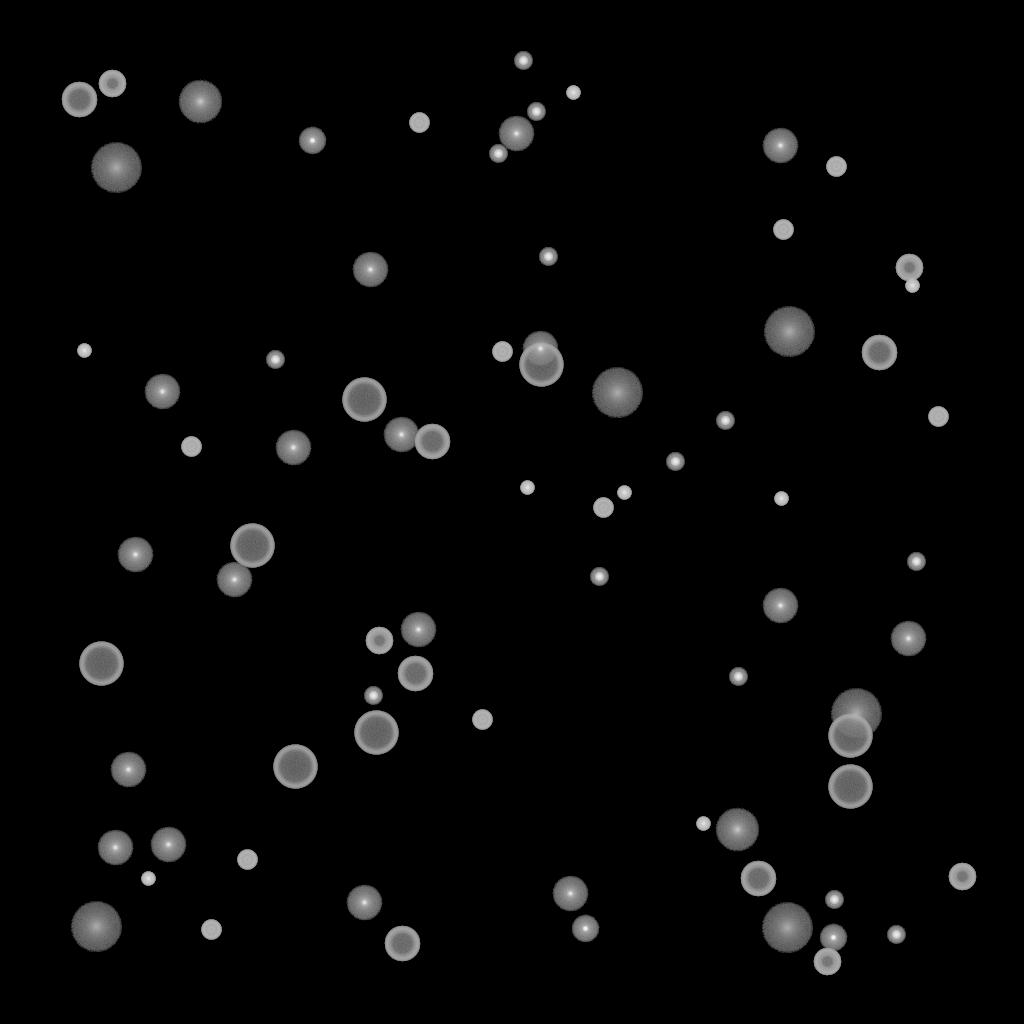depth:-10: (571, 915, 599, 943), (819, 924, 847, 952), (298, 127, 326, 155)
depth:-20: (266, 351, 284, 369), (539, 248, 557, 266), (716, 412, 734, 430), (514, 52, 532, 70), (489, 145, 507, 163), (527, 103, 545, 121), (729, 668, 747, 686), (887, 926, 905, 944), (825, 891, 843, 909), (364, 687, 382, 705), (907, 553, 925, 571), (590, 568, 608, 586), (666, 453, 684, 471)
depth:-30: (141, 872, 155, 886), (77, 344, 91, 358), (566, 86, 580, 100), (617, 486, 631, 500), (774, 492, 788, 506), (520, 481, 534, 495), (696, 817, 710, 831), (905, 279, 919, 293)
depth:-40: (472, 710, 492, 730), (928, 407, 948, 427), (593, 498, 613, 518), (826, 157, 846, 177), (409, 113, 429, 133), (181, 437, 201, 457), (201, 920, 221, 940), (773, 220, 793, 240), (237, 850, 257, 870), (492, 342, 512, 362)
depth:-50: (365, 627, 393, 655), (895, 254, 923, 282), (948, 863, 976, 891), (98, 70, 126, 98), (813, 948, 841, 976)
depth:-60: (384, 926, 420, 962), (61, 82, 97, 118), (861, 335, 897, 371), (740, 861, 776, 897), (397, 656, 433, 692), (414, 424, 450, 460)
depth:-70: (519, 343, 563, 387), (273, 745, 317, 789), (354, 711, 398, 755), (342, 378, 386, 422), (828, 765, 872, 809), (79, 642, 123, 686), (828, 714, 872, 758), (230, 524, 274, 568)
depth:0: (275, 430, 311, 466), (110, 752, 146, 788), (150, 827, 186, 863), (97, 830, 133, 866), (352, 252, 388, 288), (383, 417, 419, 453), (346, 885, 382, 921), (552, 876, 588, 912), (762, 128, 798, 164), (144, 374, 180, 410), (400, 612, 436, 648), (498, 116, 534, 152), (216, 562, 252, 598), (117, 537, 153, 573), (522, 331, 558, 367), (890, 621, 926, 657), (762, 588, 798, 624)
depth:10: (178, 80, 222, 124), (715, 808, 759, 852)
depth:20: (830, 689, 882, 739), (763, 307, 815, 357), (591, 368, 643, 418), (90, 143, 142, 193), (761, 903, 813, 953), (70, 902, 122, 952)
